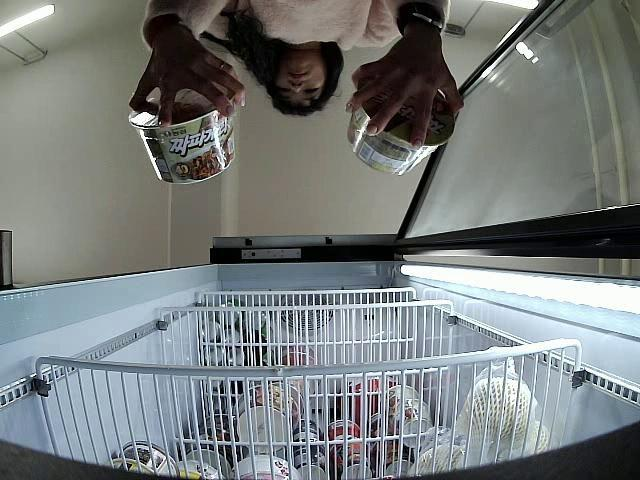03_chapagetti_L: (129, 89, 238, 188), (346, 92, 454, 175)
